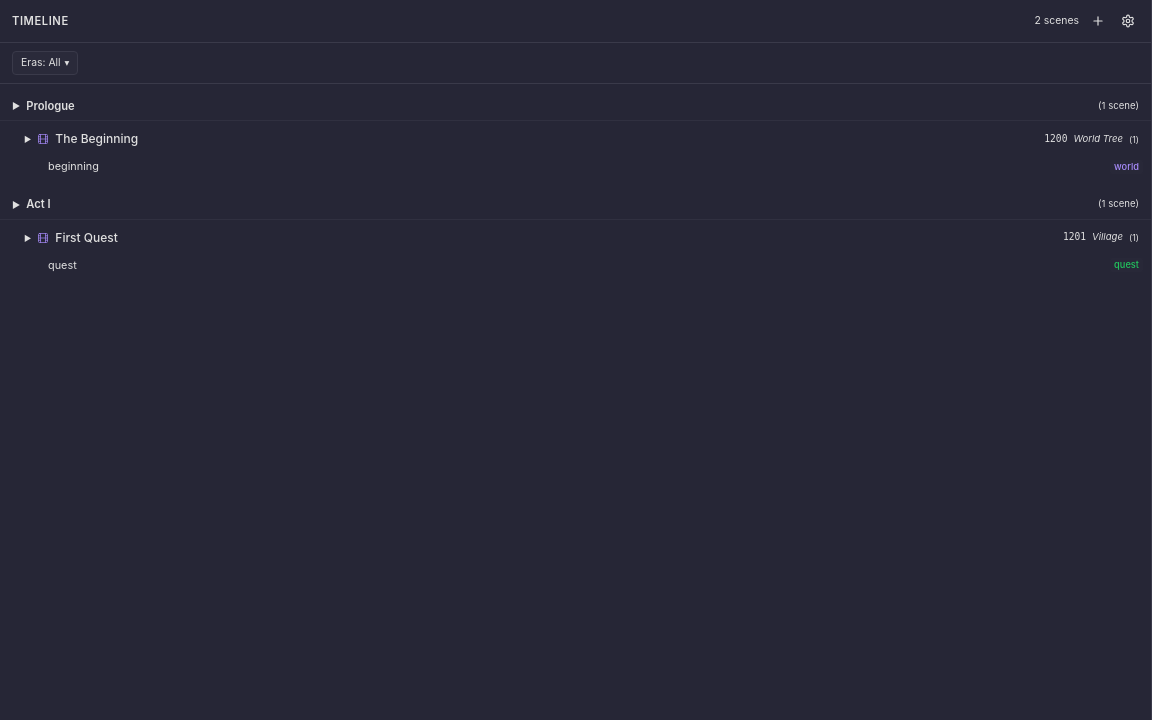
TimelineView › closes settings modal when overlay is clicked
This screenshot has width=1152, height=720.
Expected: the text "Timeline" is shown, [12,13,69,29]
Click the button titled "Manage Eras". click: (1128, 21)
box: [1117,10,1139,32]
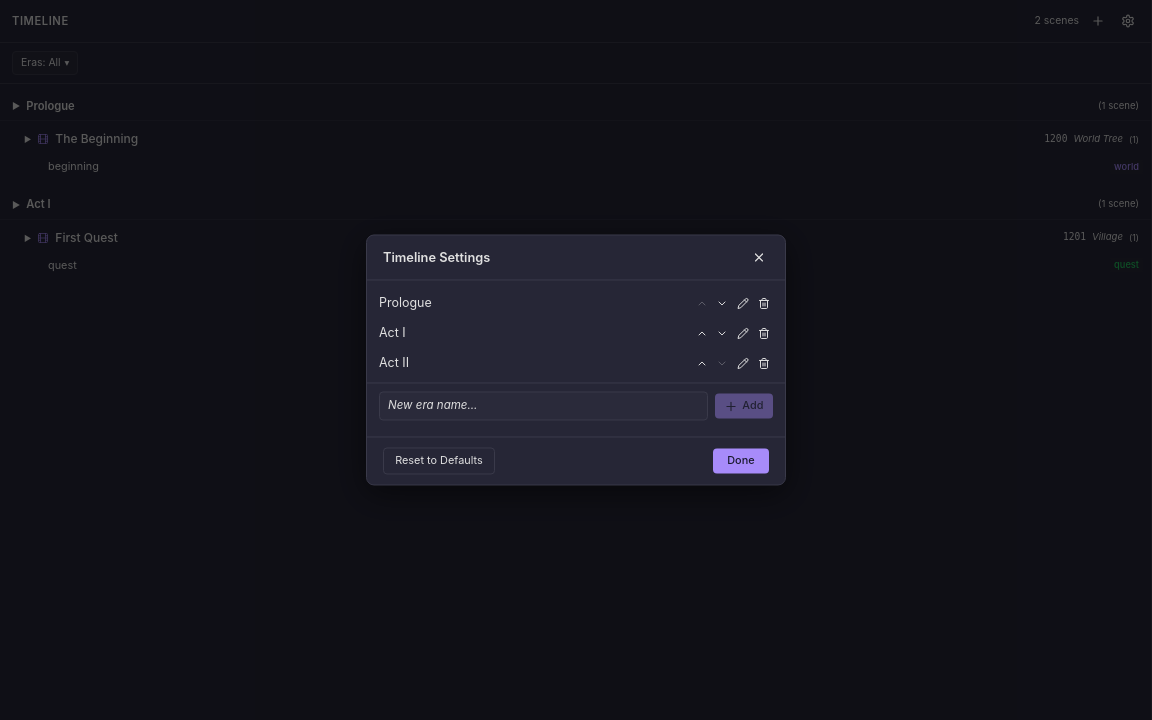
Expected: the text "Timeline Settings" is shown, [383,248,490,267]
Click the element with class "timeline-modal-overlay". click: (69, 360)
box: [0,0,1151,719]
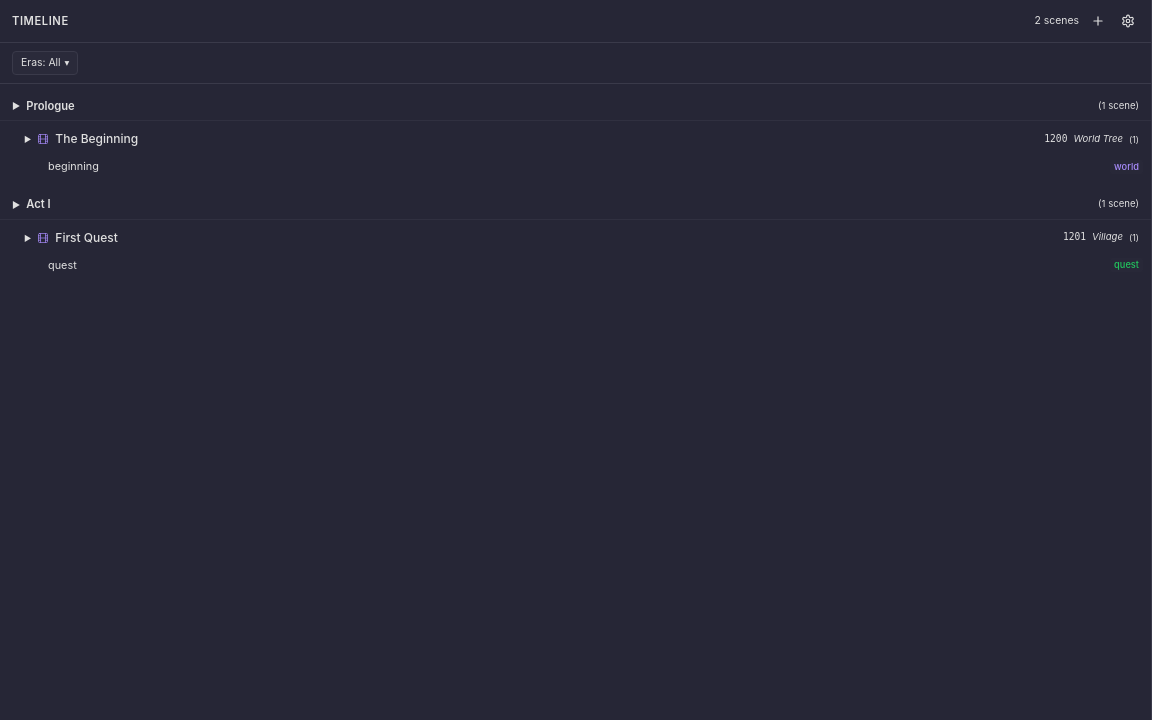
Expected: the text "Timeline Settings" is gone
